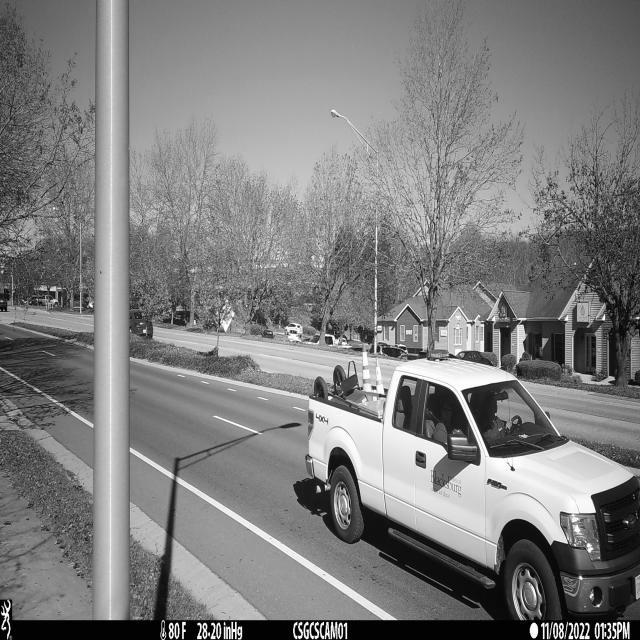Pickup: (306, 358, 640, 621)
